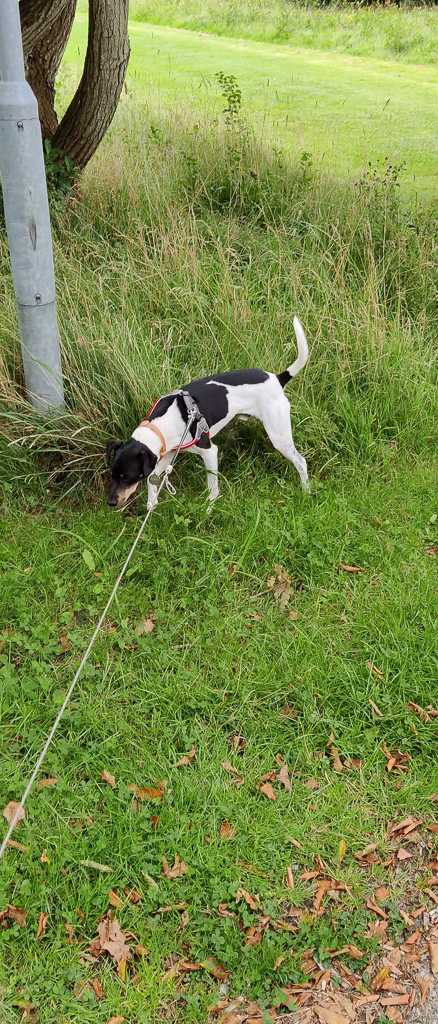Dog: (89, 303, 322, 524)
